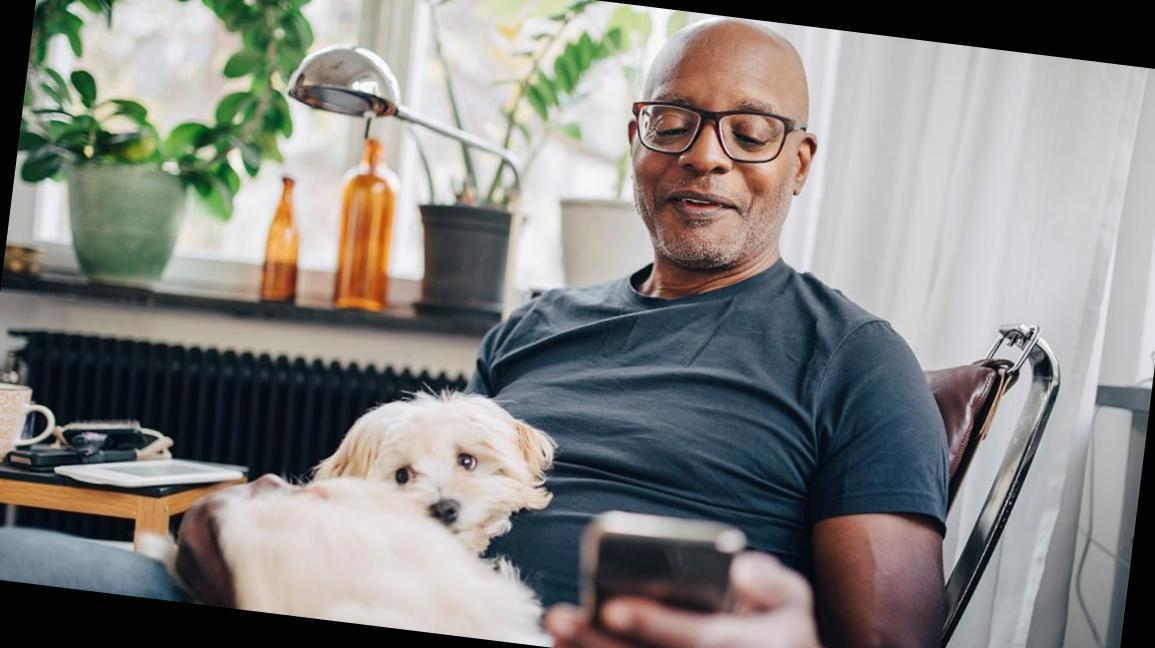Sober: (642, 49, 788, 251)
